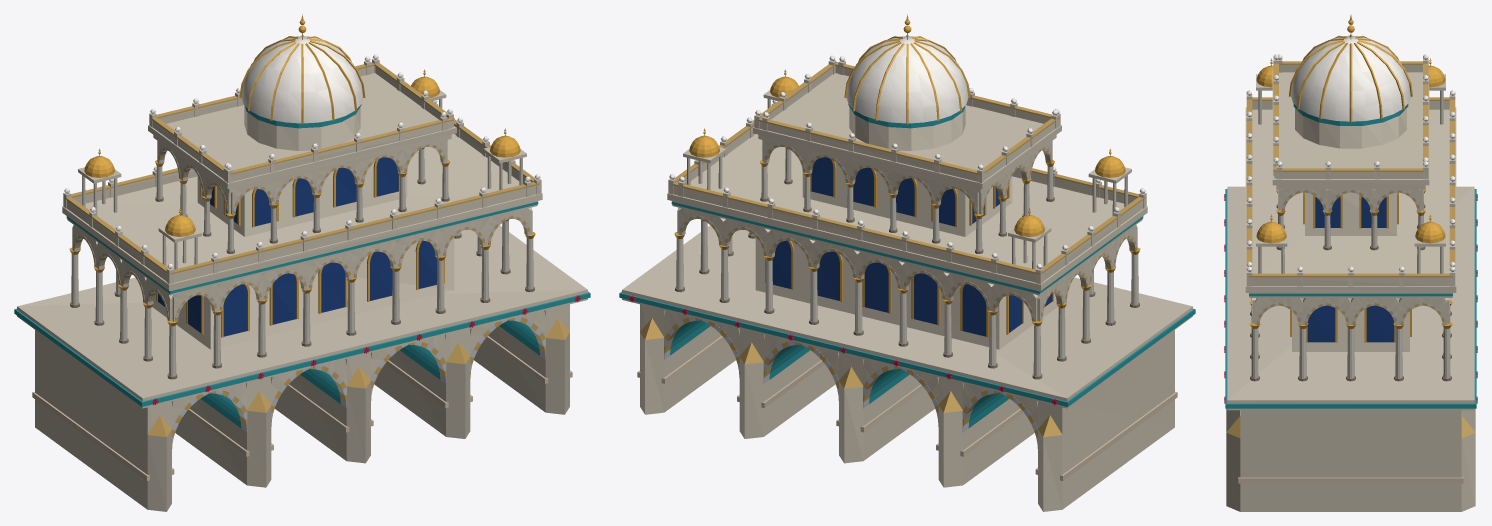
File: ZB_yapi_su_kosku.glb
3 renders of one model, left to right at view 1: azimuth 30°, elevation 25°; view 2: azimuth 150°, elevation 25°; view 3: azimuth 270°, elevation 25°, orthographic.
Parts seen in each view (by area): view 1: ZB_yapi_su_kosku; view 2: ZB_yapi_su_kosku; view 3: ZB_yapi_su_kosku.
Boxes of the visible parts, x1=… form: ZB_yapi_su_kosku: x1=14, y1=14, x2=590, y2=511; ZB_yapi_su_kosku: x1=619, y1=14, x2=1195, y2=511; ZB_yapi_su_kosku: x1=1224, y1=15, x2=1477, y2=511.
Size of the model in its own units: 27.6 by 23.7 by 13.72.
